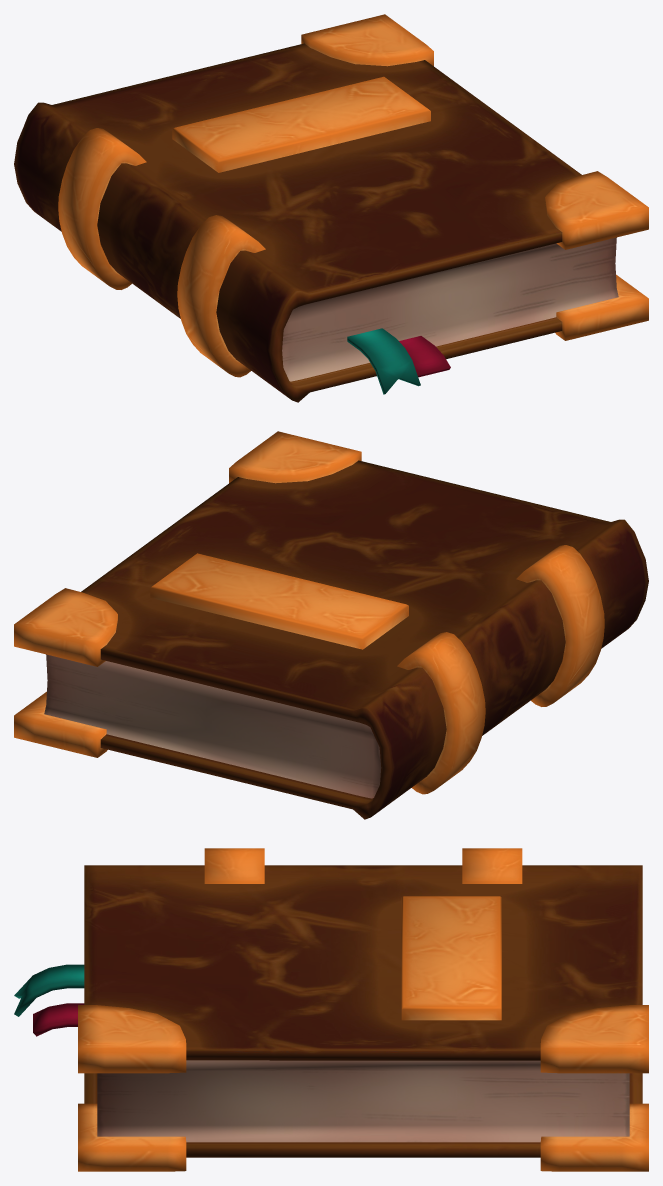
3 renders of one model, top to bottom at view 1: azimuth 30°, elevation 25°; view 2: azimuth 150°, elevation 25°; view 3: azimuth 270°, elevation 25°, orthographic. The views are drawn at different scales.
Parts seen in each view (by area): view 1: Book_Low, Metal1_Low, Metal3_Low, Metal2_Low, Ribbon_Low, Ribbon2_Low; view 2: Book_Low, Metal1_Low, Metal3_Low, Metal2_Low; view 3: Book_Low, Metal3_Low, Metal2_Low, Metal1_Low, Ribbon_Low, Ribbon2_Low.
Boxes of the visible parts, x1=… form: Book_Low: x1=14, y1=43, x2=618, y2=402; Metal1_Low: x1=58, y1=128, x2=265, y2=377; Metal3_Low: x1=301, y1=14, x2=648, y2=340; Metal2_Low: x1=172, y1=76, x2=430, y2=172; Ribbon_Low: x1=347, y1=328, x2=420, y2=394; Ribbon2_Low: x1=399, y1=336, x2=450, y2=377; Book_Low: x1=44, y1=460, x2=648, y2=819; Metal1_Low: x1=397, y1=545, x2=604, y2=794; Metal3_Low: x1=14, y1=431, x2=361, y2=757; Metal2_Low: x1=150, y1=553, x2=408, y2=649; Book_Low: x1=84, y1=865, x2=642, y2=1157; Metal3_Low: x1=78, y1=1005, x2=648, y2=1171; Metal2_Low: x1=401, y1=896, x2=501, y2=1020; Metal1_Low: x1=204, y1=848, x2=522, y2=883; Ribbon_Low: x1=14, y1=964, x2=84, y2=1016; Ribbon2_Low: x1=33, y1=1003, x2=84, y2=1036.
Size of the model in its own units: 240 by 84.13 by 317.
Materials: 1 (1 with a texture image).
